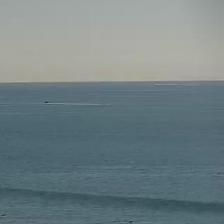surfer: (1, 213, 6, 217), (128, 220, 134, 223)
